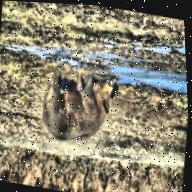boar: (28, 32, 155, 173)
